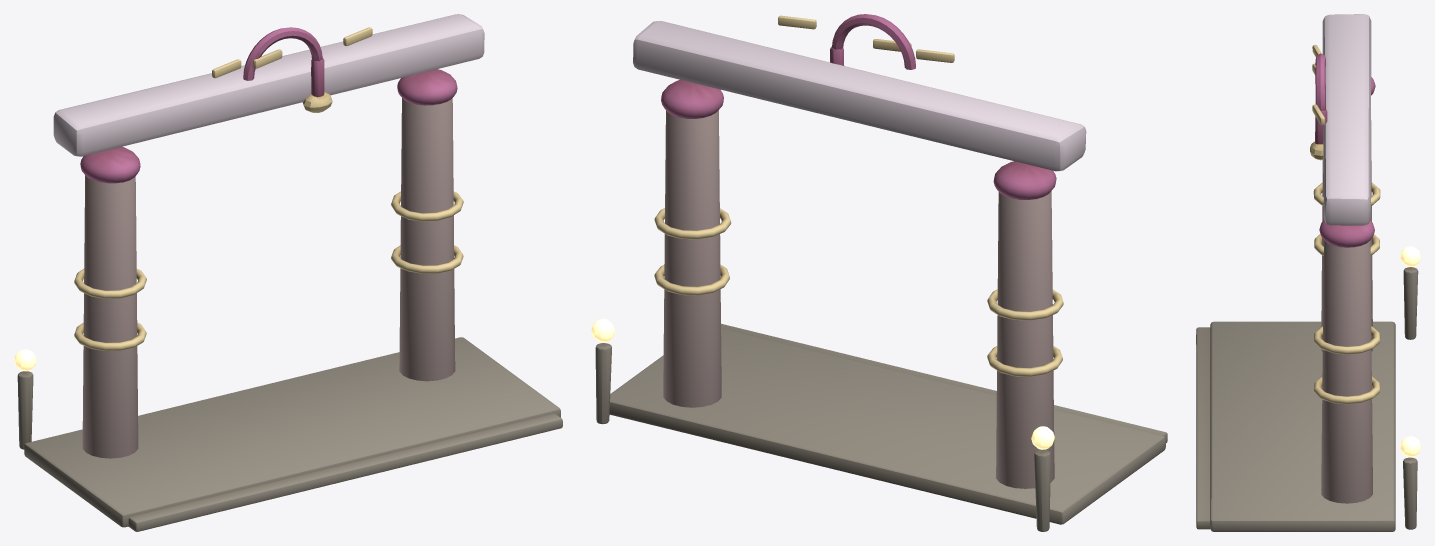
3 views of the same model, side by side, from view 1: azimuth 30°, elevation 25°; view 2: azimuth 150°, elevation 25°; view 3: azimuth 270°, elevation 25° (orthographic). The views are drawn at different scales.
Visible parts, largest first — view 1: gate_e3b1ce45; view 2: gate_e3b1ce45; view 3: gate_e3b1ce45.
Boxes of the visible parts, x1,y1,x2,y2 form: gate_e3b1ce45: (14,14,562,531); gate_e3b1ce45: (591,14,1167,531); gate_e3b1ce45: (1196,14,1420,531).
Size of the model in its own units: 5.36 by 4.74 by 2.55.
